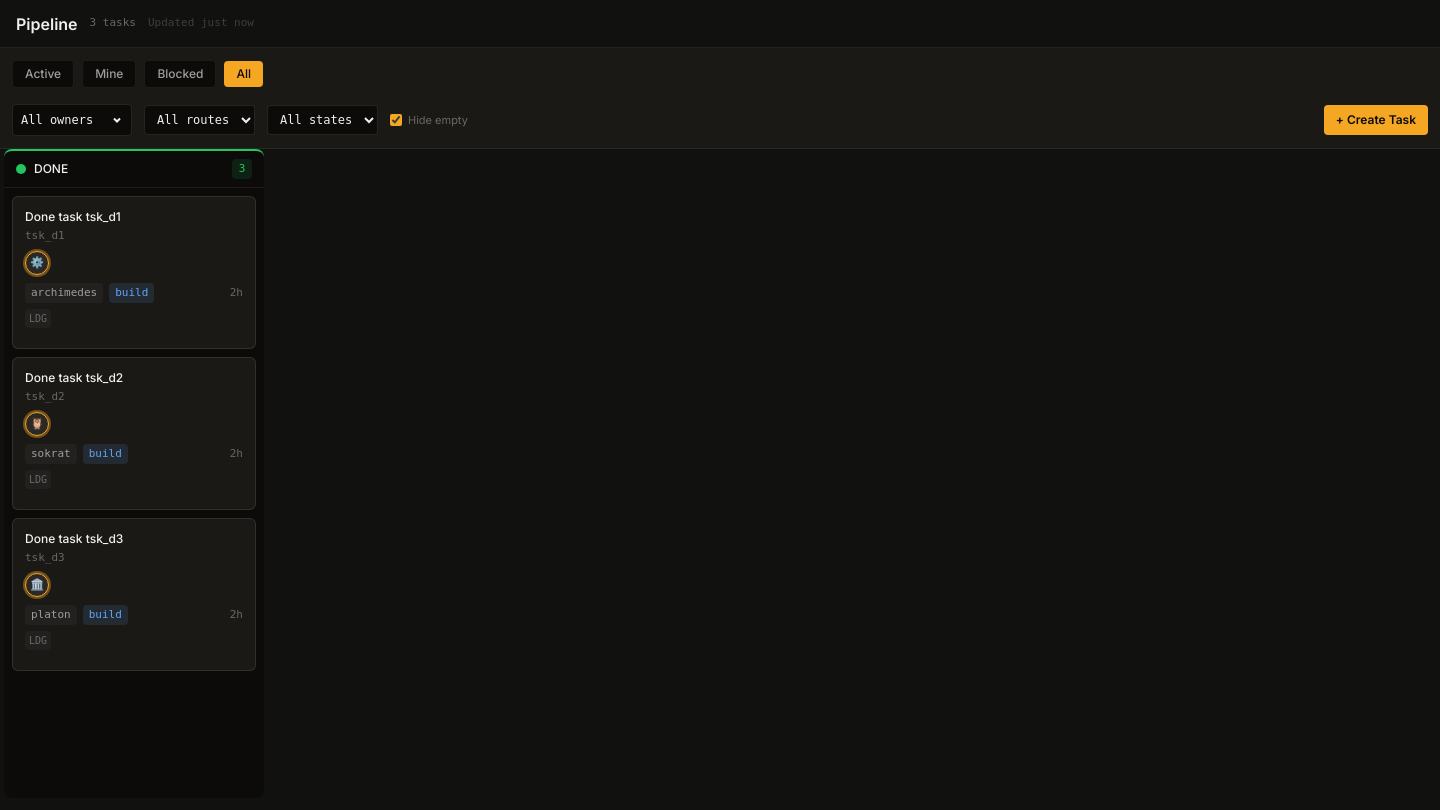
Test: Pipeline — filtered-empty state (#148) › shows filtered-empty state when user switches to Active and all tasks are DONE
Click the button "Active".
click(43, 74)  # box [12,60,74,88]
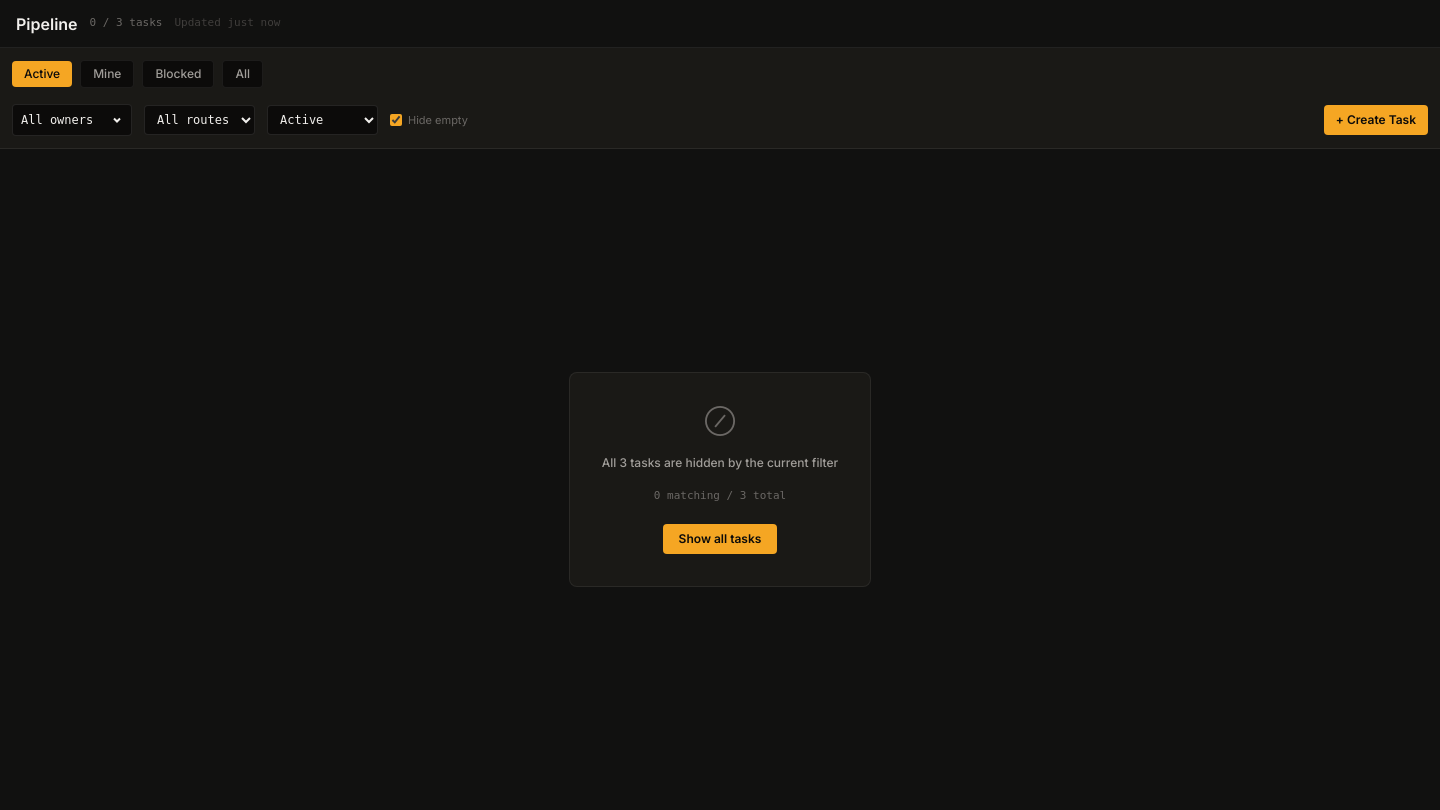
Check: the element with test id "filtered-empty-state" is shown, box [569,372,871,587]
Check: the text "All 3 tasks are hidden by the current filter" is shown, box [602,454,838,472]
Check: the text "0 matching / 3 total" is shown, box [654,488,786,504]
